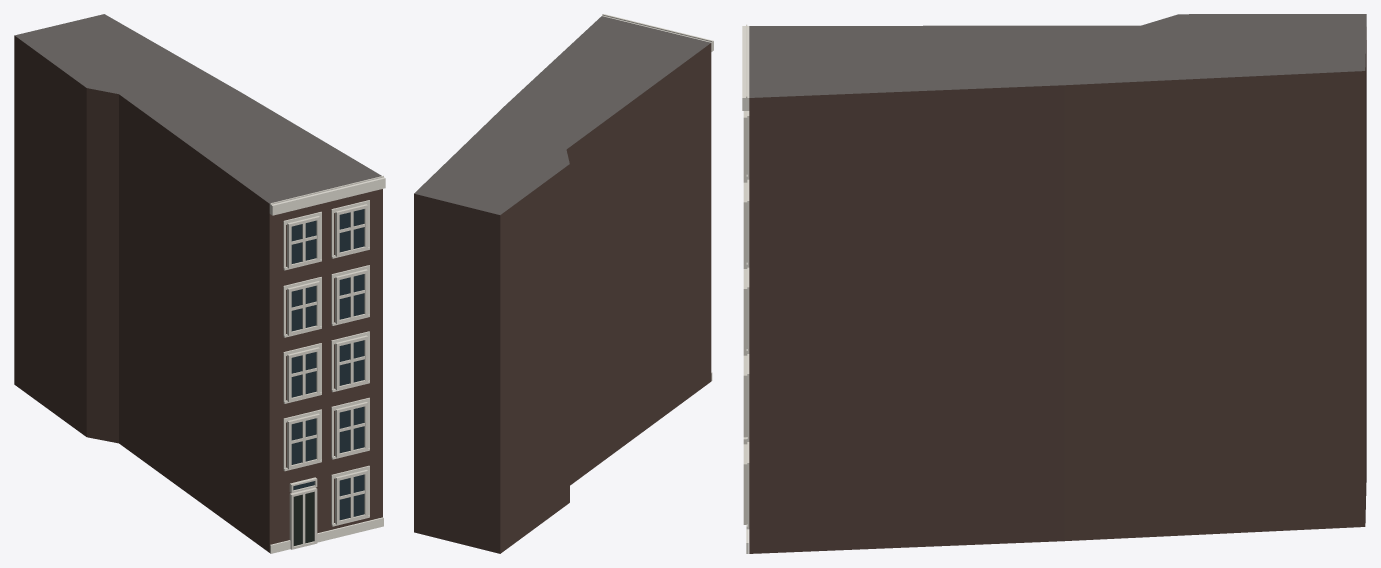
The picture shows the model from 3 angles, left to right: view 1: azimuth 30°, elevation 25°; view 2: azimuth 150°, elevation 25°; view 3: azimuth 270°, elevation 25°; orthographic projection. The views are drawn at different scales.
Visible parts, largest first — view 1: spec-0363100012176017; view 2: spec-0363100012176017; view 3: spec-0363100012176017.
Boxes of the visible parts, <box> form: spec-0363100012176017: <box>14,14,385,553</box>; spec-0363100012176017: <box>414,14,713,553</box>; spec-0363100012176017: <box>742,14,1366,553</box>.
Size of the model in its own units: 4.9 by 12.43 by 15.38.
